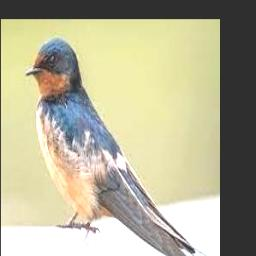Swallow: (27, 36, 206, 256)
